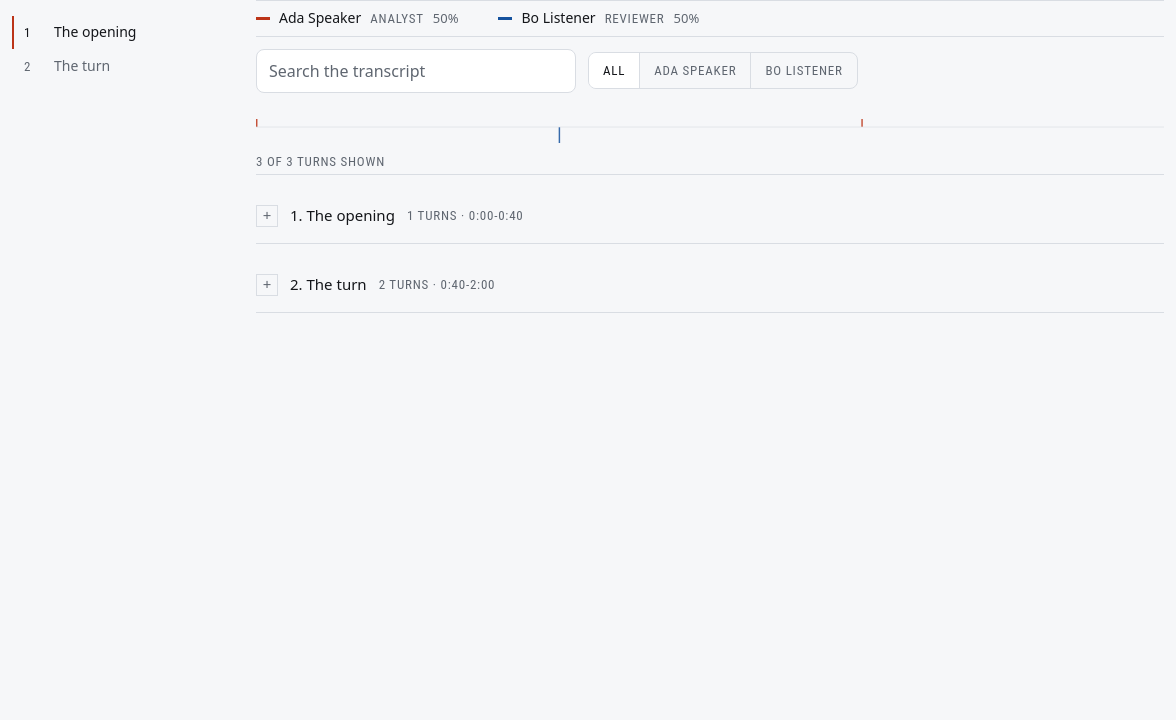
Test: the reader › opens one chapter without opening the others
Click the button "+ 2. The turn 2 turns · 0:40-2:00" at (376, 285), box left=256, top=262, right=495, bottom=308
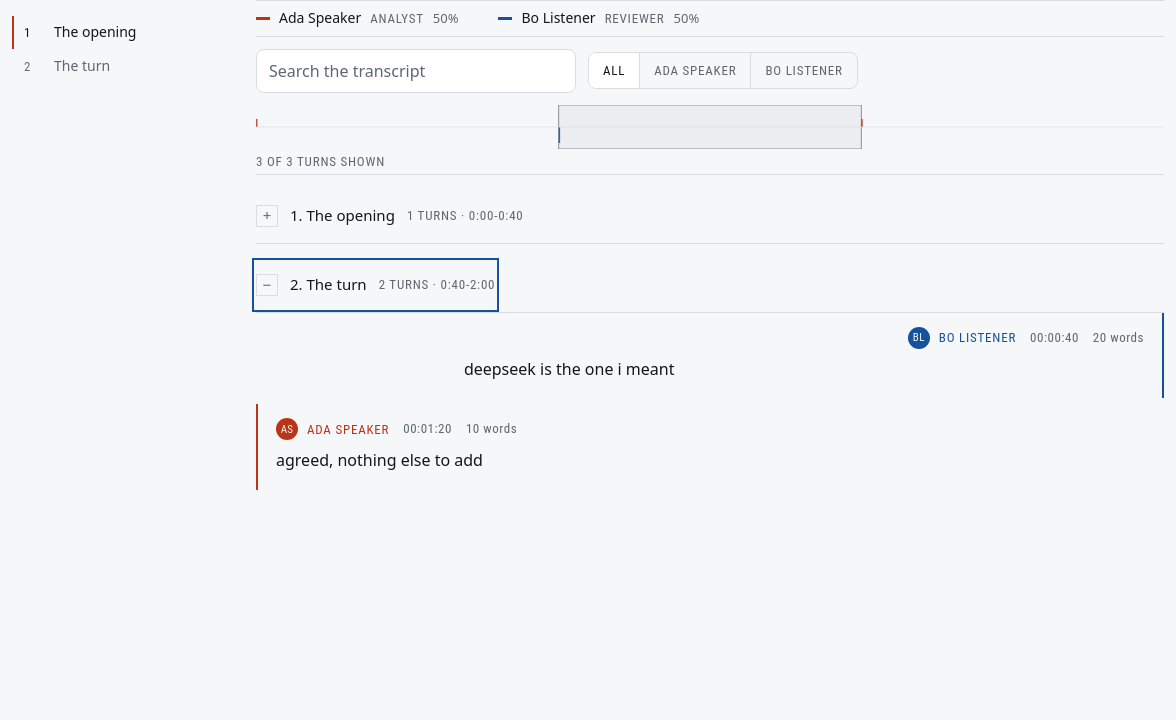
Result: the text "agreed, nothing else to add" is shown at left=276, top=449, right=483, bottom=471
